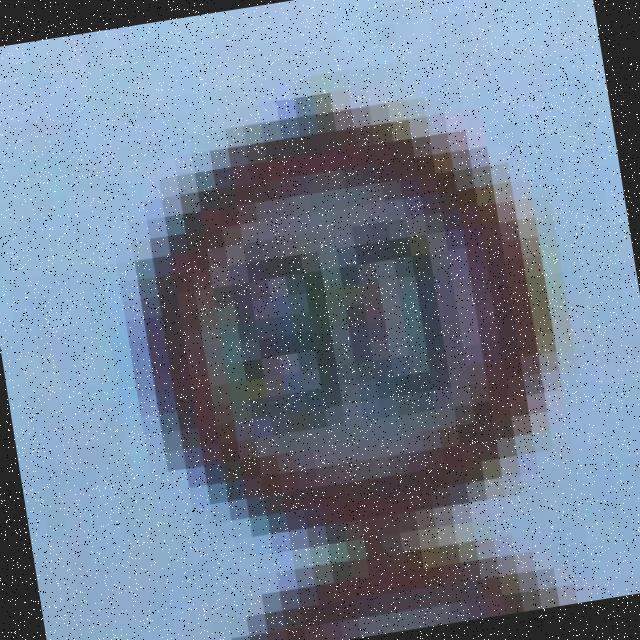Ograniczenie predkosci do 80: (119, 94, 572, 569)
